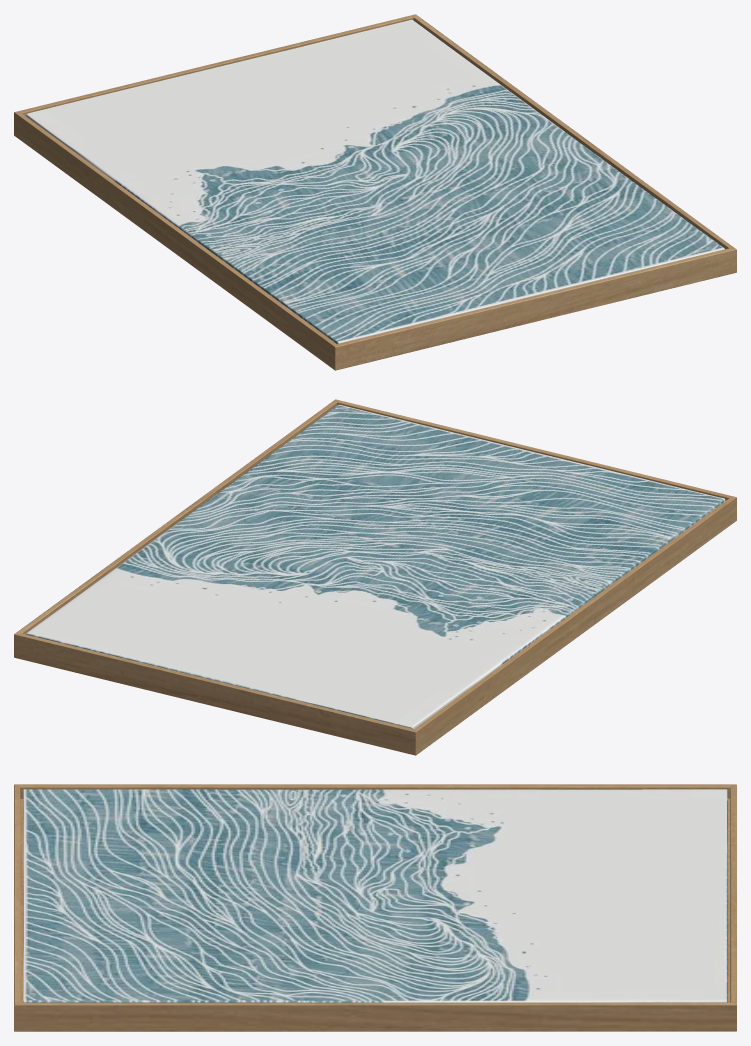
Rendered from 80601917-mini.glb.
3 views of the same model, one above another, from view 1: azimuth 30°, elevation 25°; view 2: azimuth 150°, elevation 25°; view 3: azimuth 270°, elevation 25° (orthographic). The views are drawn at different scales.
Parts seen in each view (by area): view 1: ASY_ART_80601917_S01_NV01; view 2: ASY_ART_80601917_S01_NV01; view 3: ASY_ART_80601917_S01_NV01.
Boxes of the visible parts, <box> form: ASY_ART_80601917_S01_NV01: <box>14,14,736,370</box>; ASY_ART_80601917_S01_NV01: <box>14,399,736,755</box>; ASY_ART_80601917_S01_NV01: <box>14,784,736,1031</box>.
Size of the model in its own units: 0.5202 by 0.0296 by 0.7204.
1 material, 1 textured.
